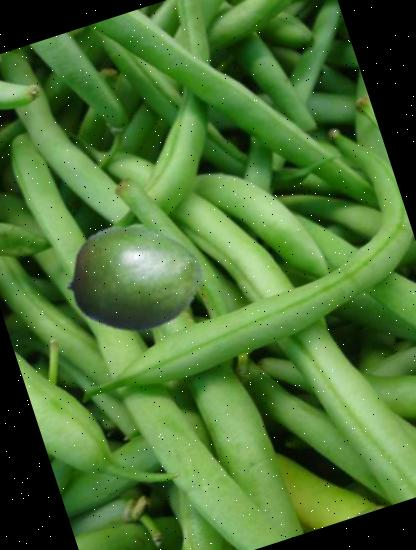Mango: (52, 197, 218, 363)
